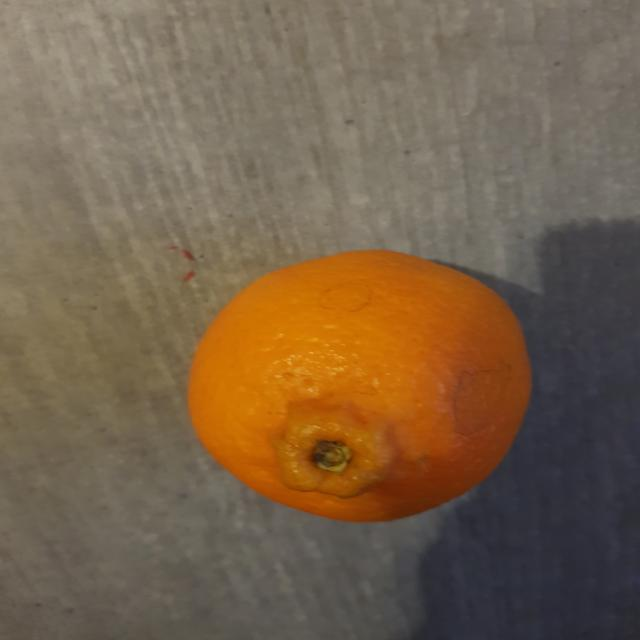Orange: (186, 250, 534, 526)
